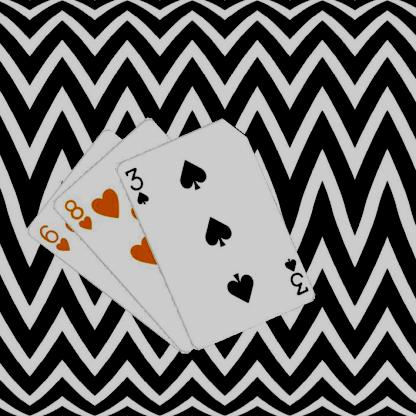3S: (122, 164, 150, 206), (281, 256, 310, 296)
6H: (36, 222, 71, 253)
8H: (61, 196, 94, 232)
